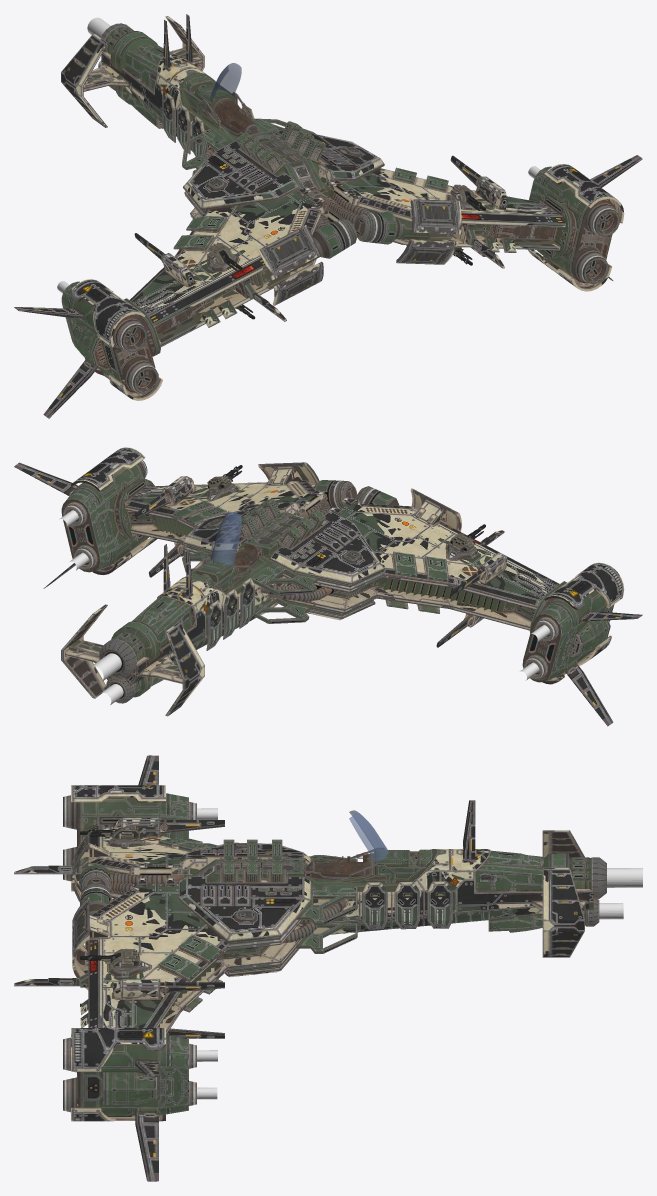
File: ship.glb
3 views of the same model, one above another, from view 1: azimuth 30°, elevation 25°; view 2: azimuth 150°, elevation 25°; view 3: azimuth 270°, elevation 25° (orthographic). The views are drawn at different scales.
Parts seen in each view (by area): view 1: Object_6, Object_5, pCylinder1; view 2: Object_6, pCylinder1, Object_5, plume_01; view 3: Object_6, Object_5, pCylinder1, plume_01.
Boxes of the visible parts, x1,y1,x2,y2 form: Object_6: (14,14,642,418); Object_5: (207,184,485,319); pCylinder1: (210,63,241,101); Object_6: (14,447,642,726); pCylinder1: (210,511,241,565); Object_5: (207,465,485,552); plume_01: (91,653,121,681); Object_6: (14,755,606,1181); Object_5: (80,826,139,1006); pCylinder1: (349,810,388,861); plume_01: (607,867,642,887).
Bounding box in the file's own units: 6.52 × 2.19 × 5.42.
3 materials, 2 textured.
